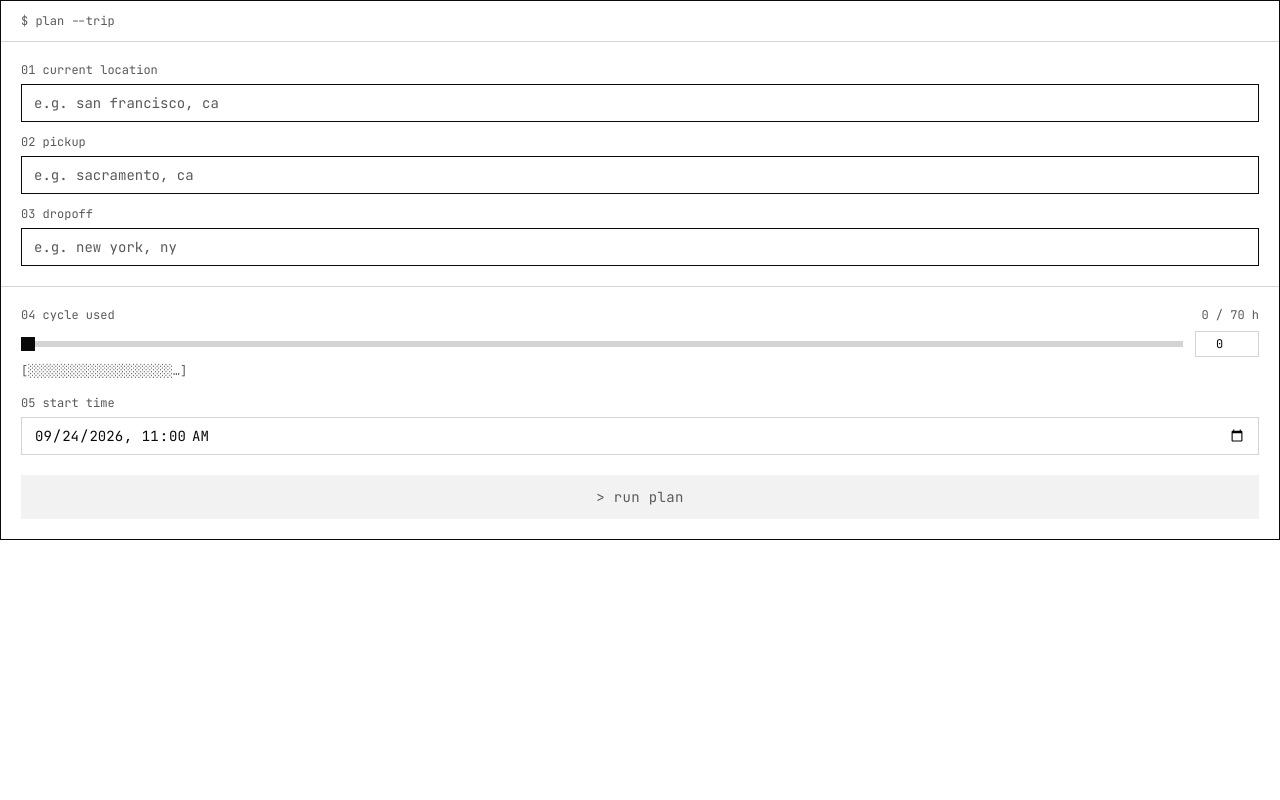
Test: TripForm › shows warning when cycle used exceeds 60
Set the slider to "65": [1093, 344] box left=21, top=341, right=1183, bottom=347
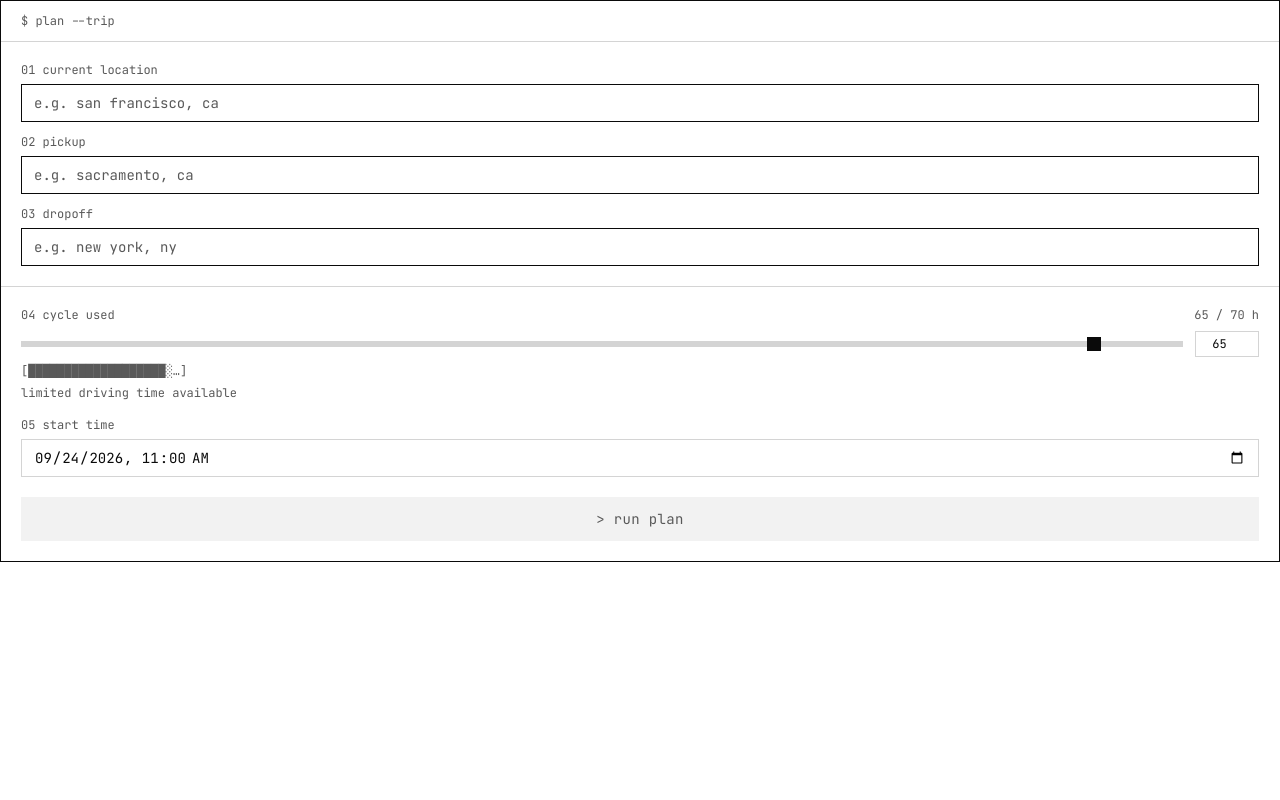
Expected: the text "limited driving time available" is shown, left=21, top=385, right=237, bottom=401
